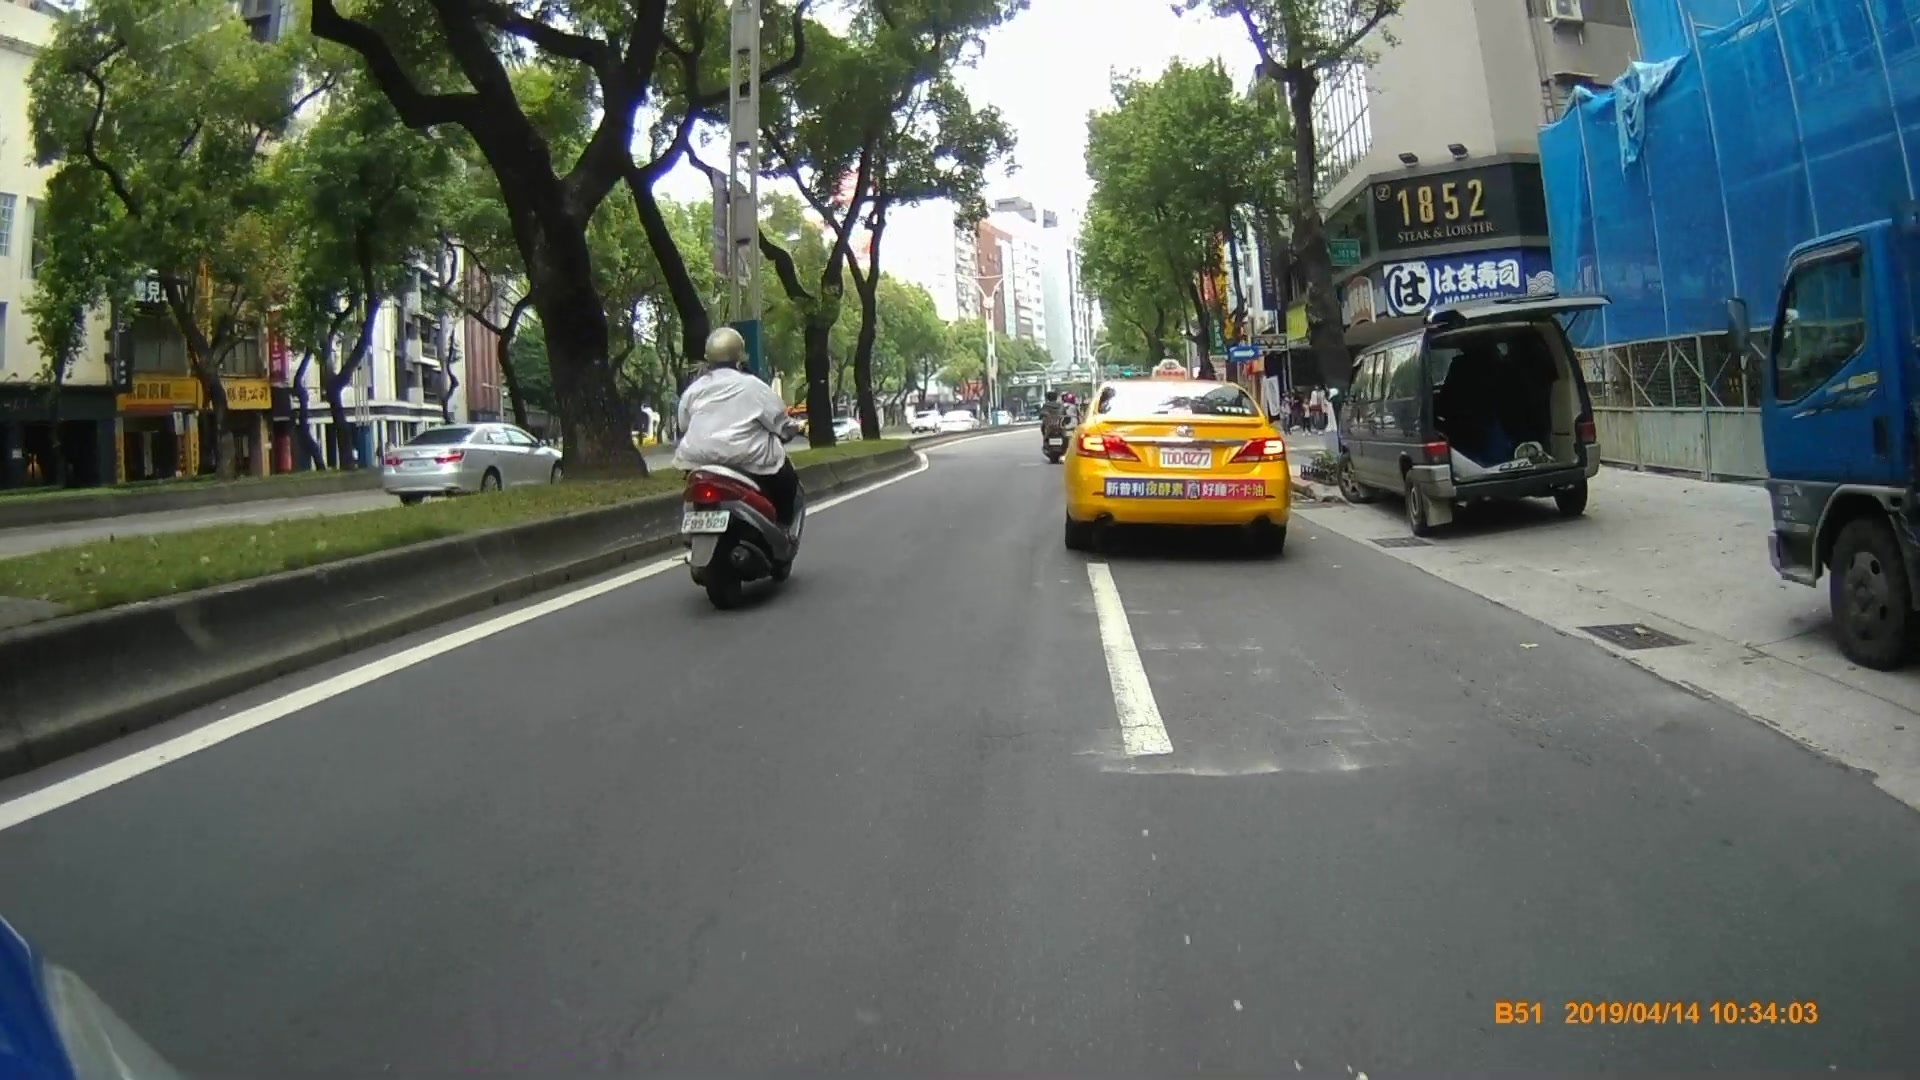License_plate: (1154, 444, 1215, 475), (680, 508, 728, 534)
